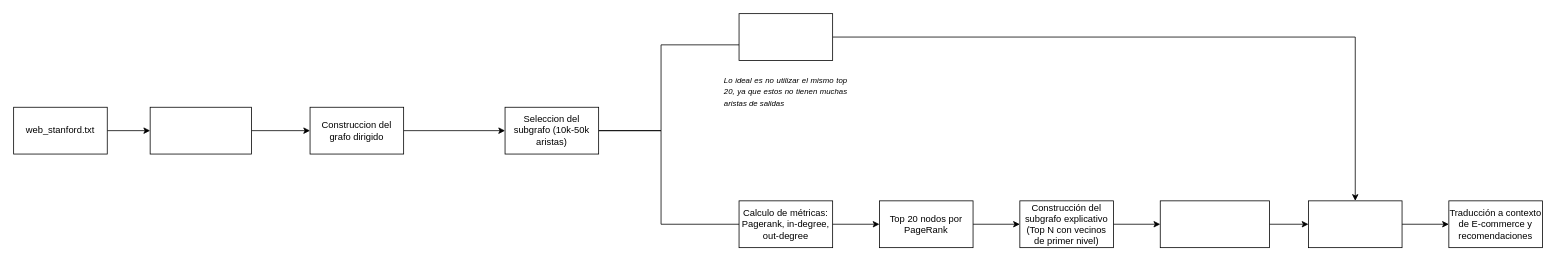
This 1556x261 diagram has some shape labels left out. Each missing label, with the centre of its shape:
Carga y parseo de aristas dirigidas: the point at 200,130
Insights de los grafos: the point at 1355,224
Simulación de propagación de semillas: the point at 785,36
Visualización del subgrafo explicativo (Tamaño: PageRank, color = grado): the point at 1214,224
